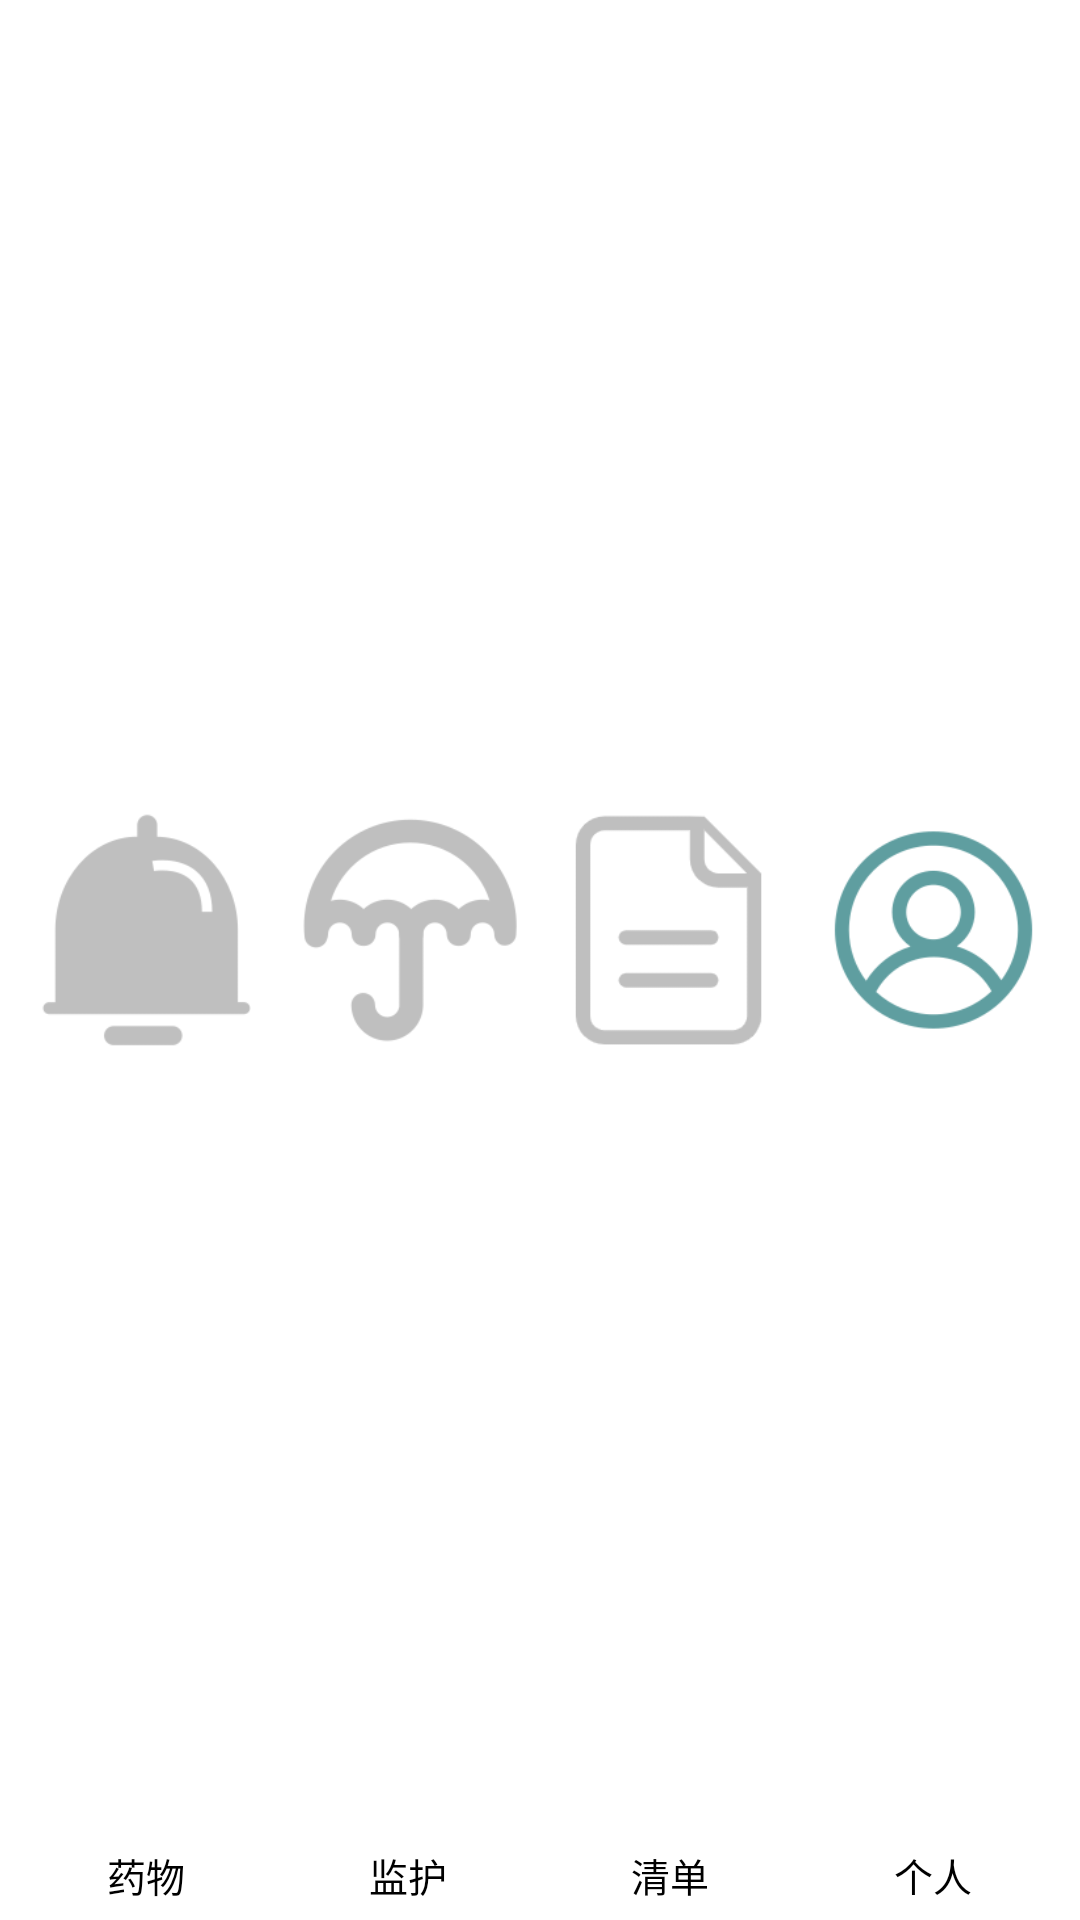

Point at icon controls on the screen. Image size 1080×1920, points as (x,y).
geren: (933,930)
jianhu: (410,930)
list: (668,930)
tixing: (146,930)
